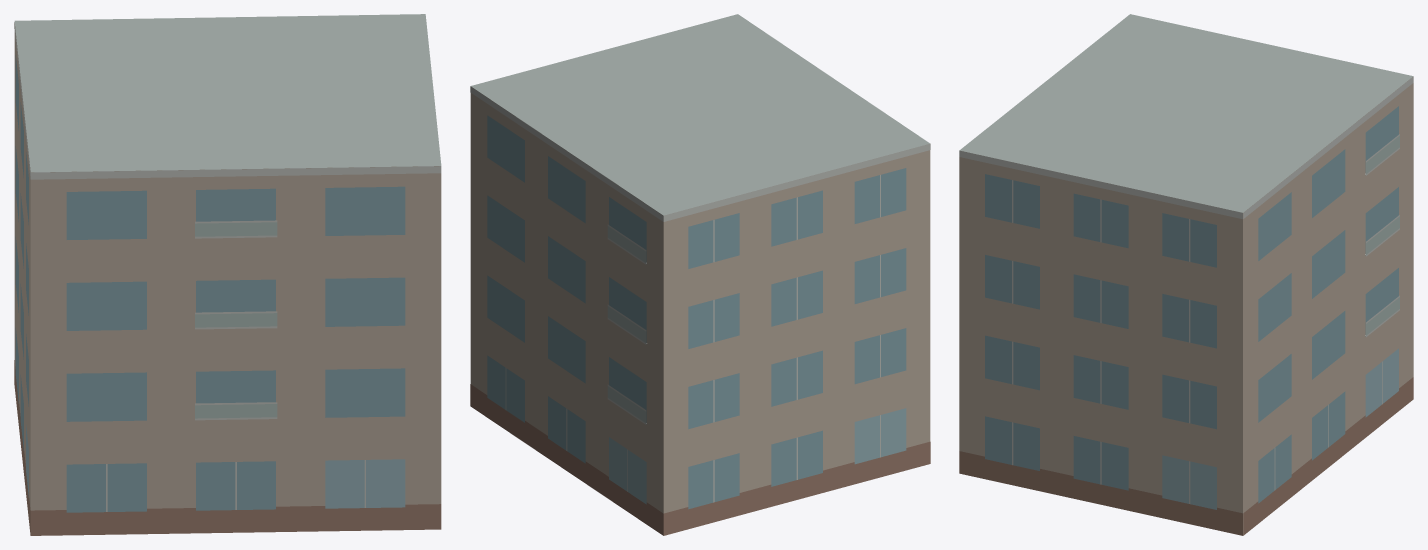
Rendered from survey-upis-32720245.glb.
3 renders of one model, left to right at view 1: azimuth 30°, elevation 25°; view 2: azimuth 150°, elevation 25°; view 3: azimuth 270°, elevation 25°, orthographic. The views are drawn at different scales.
Visible parts, largest first — view 1: survey-upis-32720245.tmp; view 2: survey-upis-32720245.tmp; view 3: survey-upis-32720245.tmp.
Part boxes in pixels (left/top/right/bottom): survey-upis-32720245.tmp: left=14, top=14, right=441, bottom=535; survey-upis-32720245.tmp: left=470, top=14, right=930, bottom=535; survey-upis-32720245.tmp: left=959, top=14, right=1413, bottom=535.
Size of the model in its own units: 16.12 by 12.2 by 15.56.
